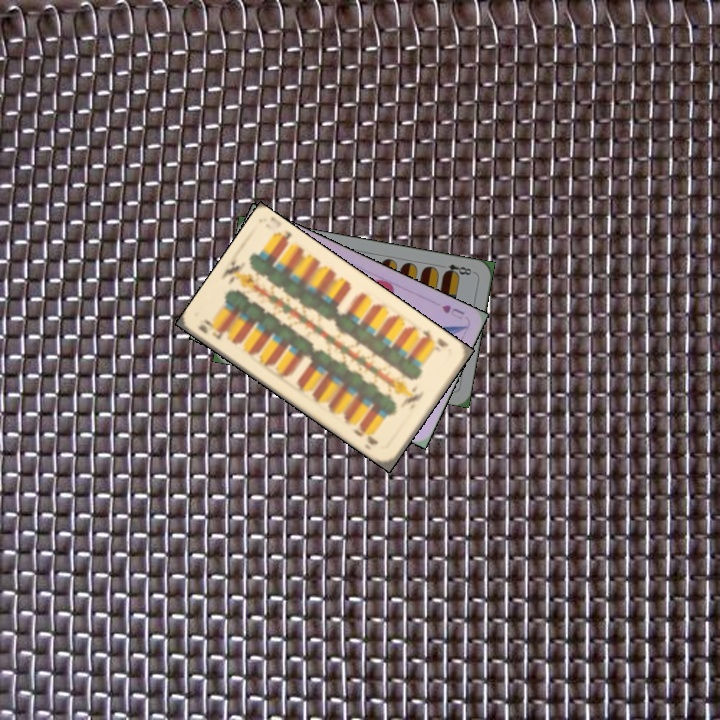E10: (416, 325, 451, 354), (194, 315, 227, 342)
E8: (440, 260, 477, 279)
HU: (438, 301, 467, 322)
